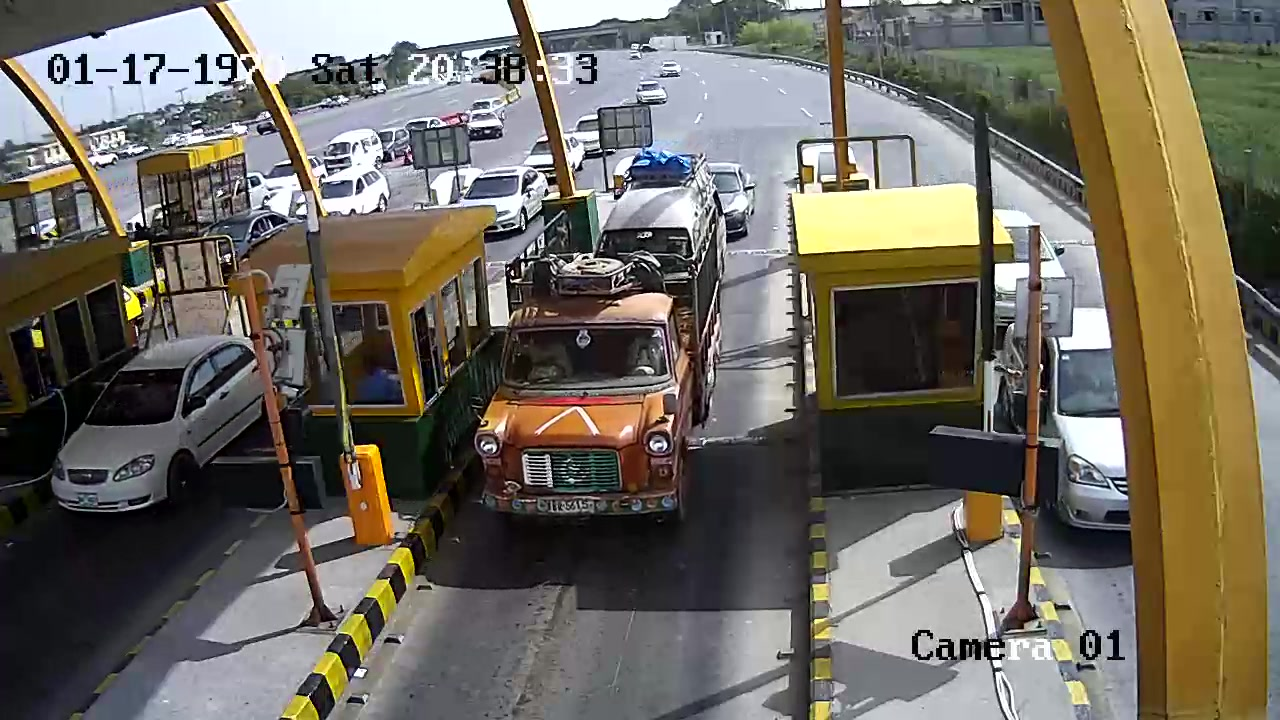F2: (465, 206, 736, 535)
